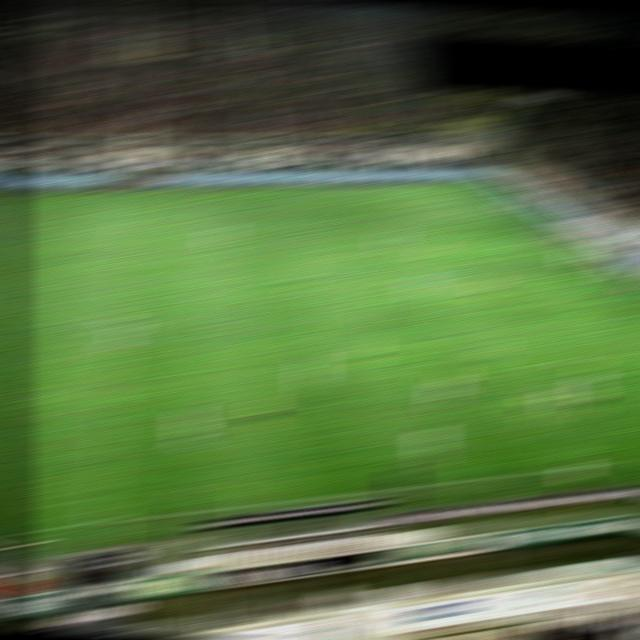bigarea_bottom_inner: (531, 357, 558, 366)
bigarea_top_inner: (390, 210, 418, 219)
bigarea_top_outter: (500, 208, 527, 217)
bottom_arc_area_intersection: (468, 294, 497, 303)
corner: (461, 182, 489, 190)
halfcircle_bottom: (105, 324, 136, 337)
halfcircle_top: (114, 251, 142, 260)
midline_bottom_intersection: (79, 507, 123, 535), (199, 623, 227, 632)
midline_top_intersection: (121, 188, 148, 196)
smallarea_bottom_inner: (575, 295, 603, 304)
smallarea_bottom_outter: (621, 295, 640, 304)
smallarea_top_inner: (499, 237, 527, 245)
smallarea_top_outter: (536, 233, 564, 242)
top_arc_area_intersection: (421, 246, 449, 255)
